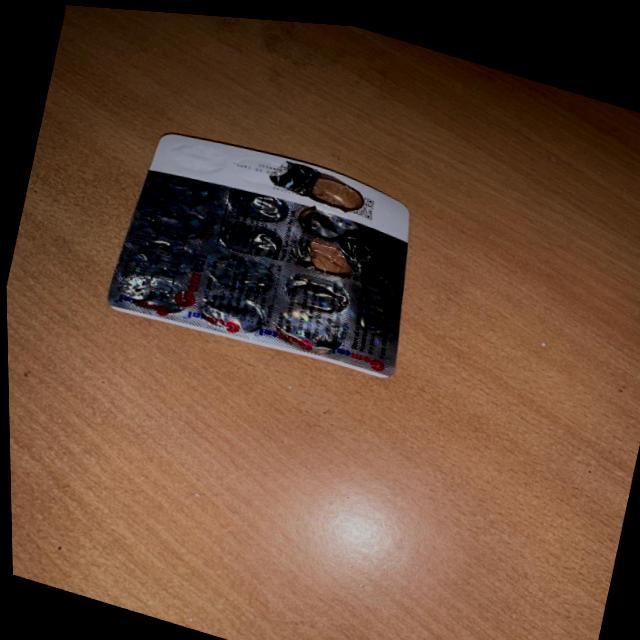medicine: (97, 119, 424, 378)
